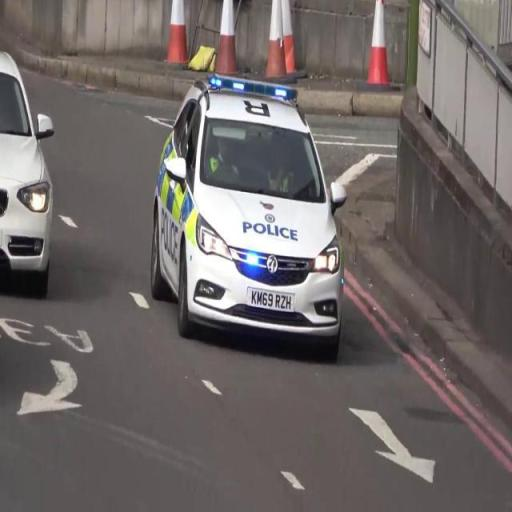Ambulance: (148, 77, 346, 351)
